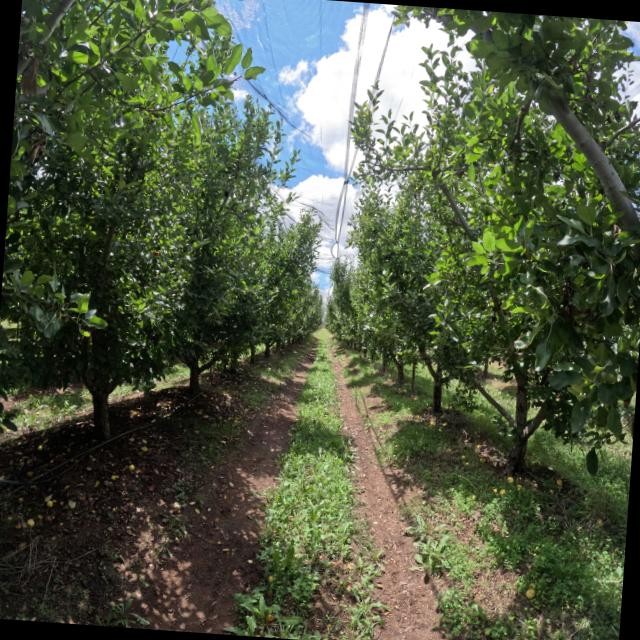-FireBlight-: (18, 40, 48, 99), (29, 123, 47, 167)
